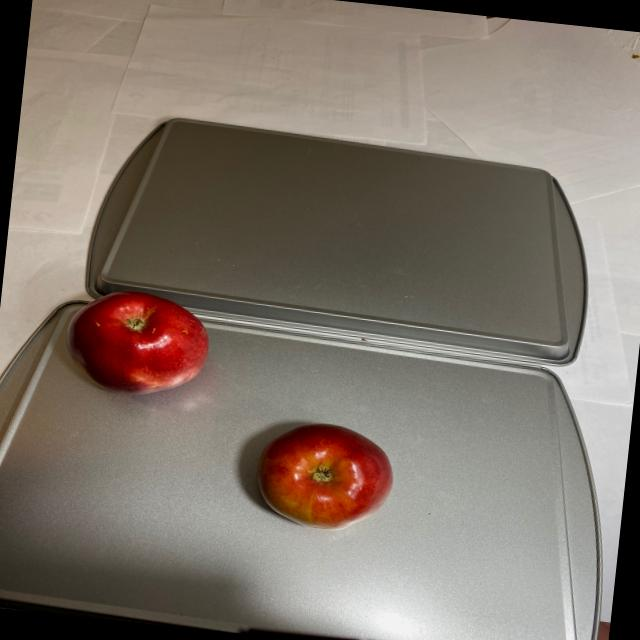apple: (60, 287, 214, 403), (250, 416, 398, 536)
